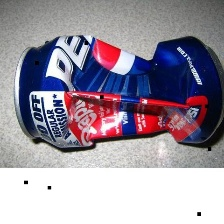can: (12, 34, 224, 152)
